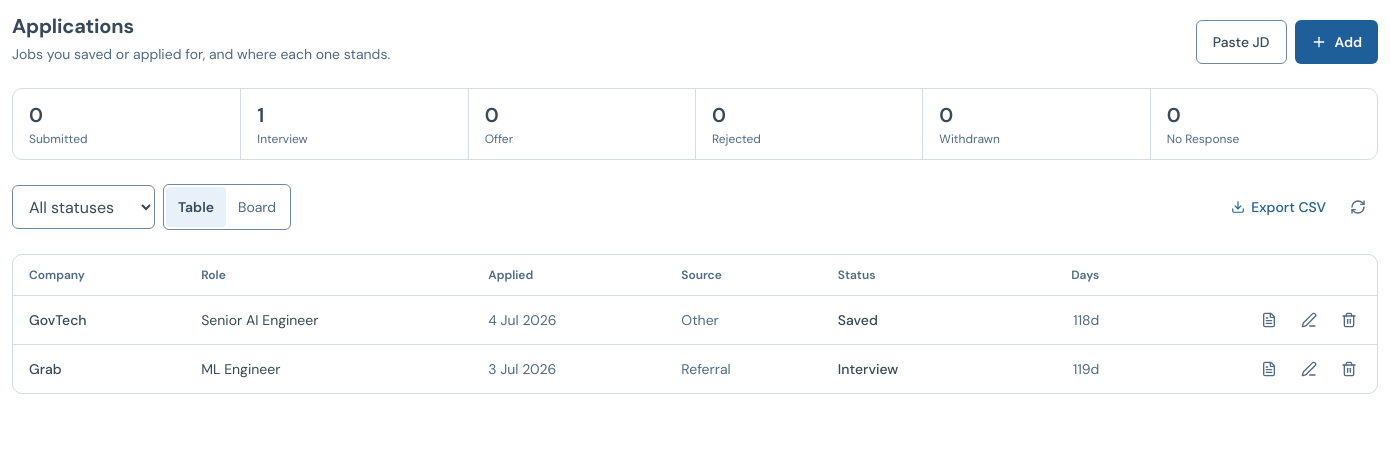
TrackerTab workspace creation › groups tracked applications by status in board view
Click the button "Board" at point(257, 207), box x1=226 y1=187 x2=288 y2=227
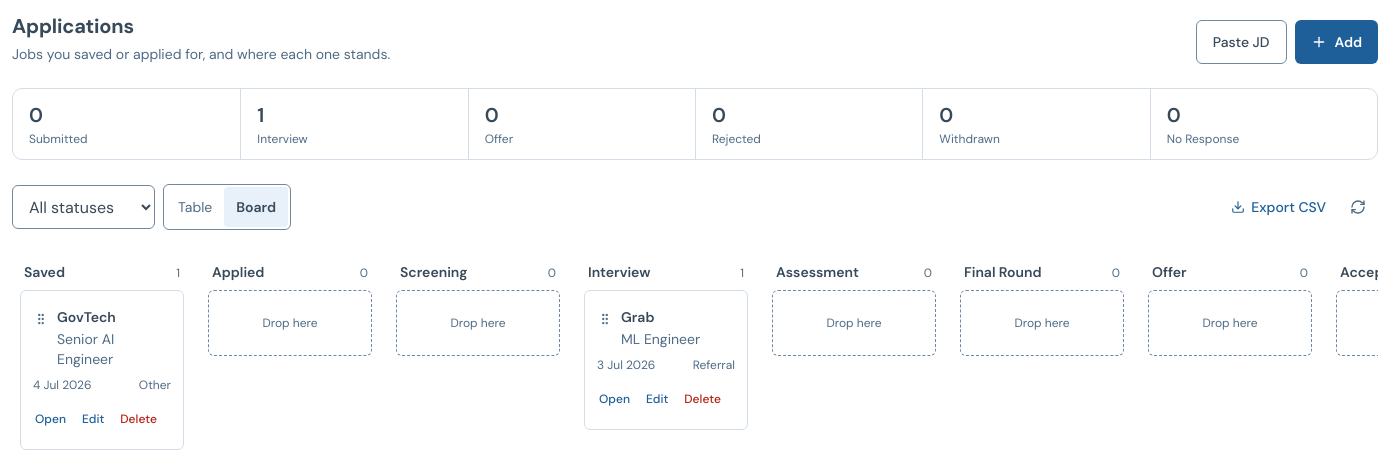
Check: the element that starts with "Saved" shows "GovTech", box x1=57 y1=308 x2=116 y2=326
Check: the element that starts with "Saved" shows "Senior AI Engineer", box x1=57 y1=330 x2=114 y2=368
Check: the text "Grab" is shown, box x1=621 y1=308 x2=654 y2=326
